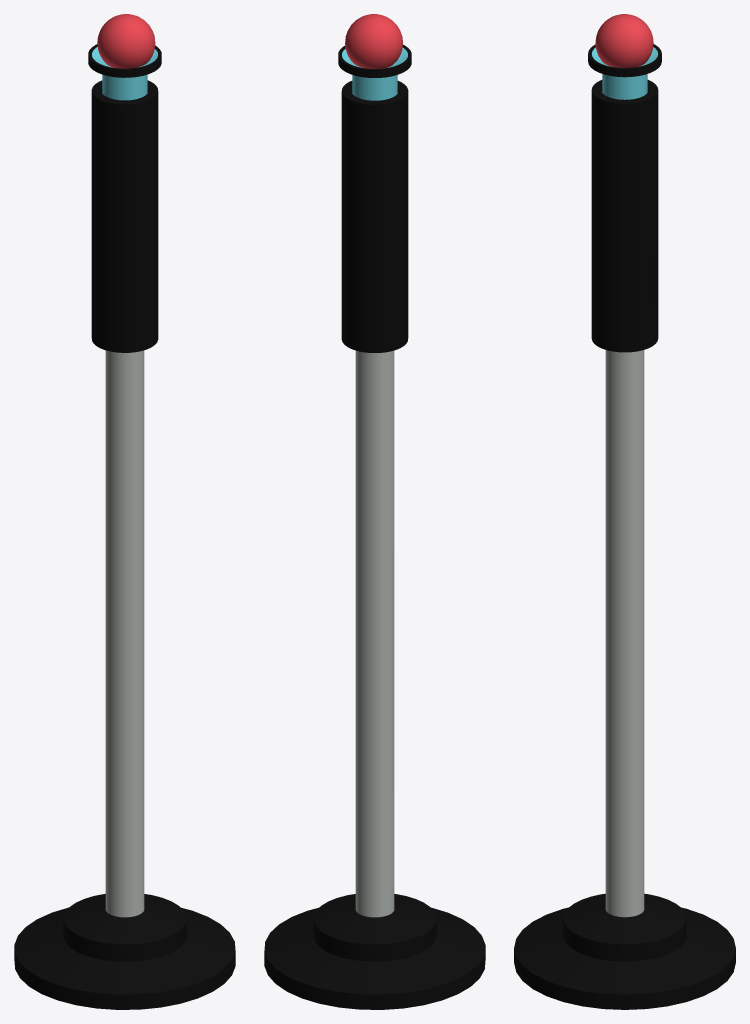
The model's file is Stamp_1.fbx.
3 renders of one model, left to right at view 1: azimuth 30°, elevation 25°; view 2: azimuth 150°, elevation 25°; view 3: azimuth 270°, elevation 25°, orthographic.
Visible parts, largest first — view 1: Sphere.001; view 2: Sphere.001; view 3: Sphere.001.
Part boxes in pixels (box(x1,y1,x2,y2)): Sphere.001: box(14, 14, 235, 1009); Sphere.001: box(264, 14, 485, 1009); Sphere.001: box(514, 14, 735, 1009).
Bounding box in the file's own units: 240 × 1131 × 240.
